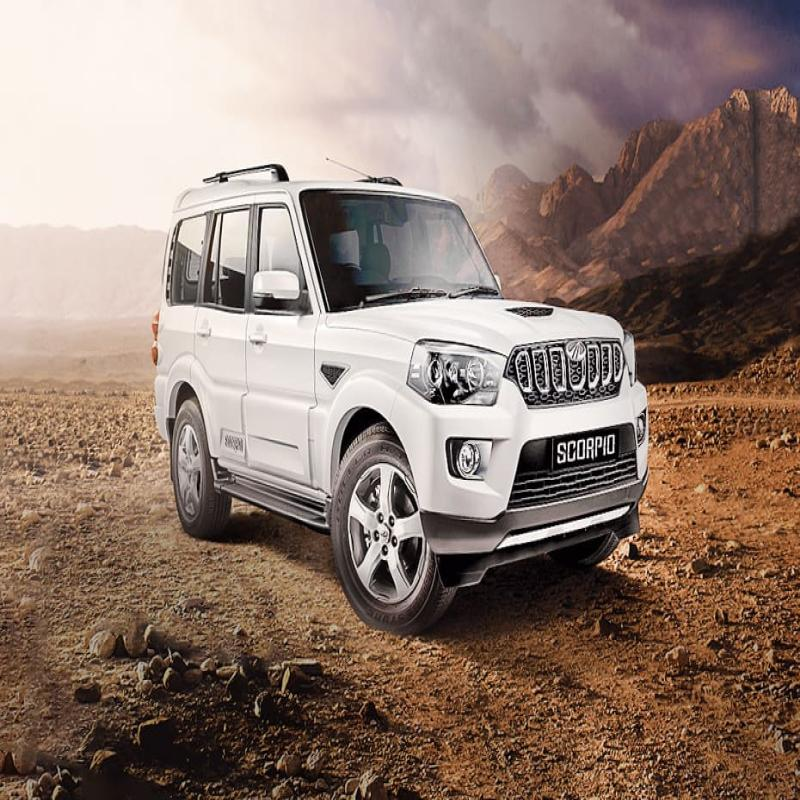car: (148, 140, 667, 615)
